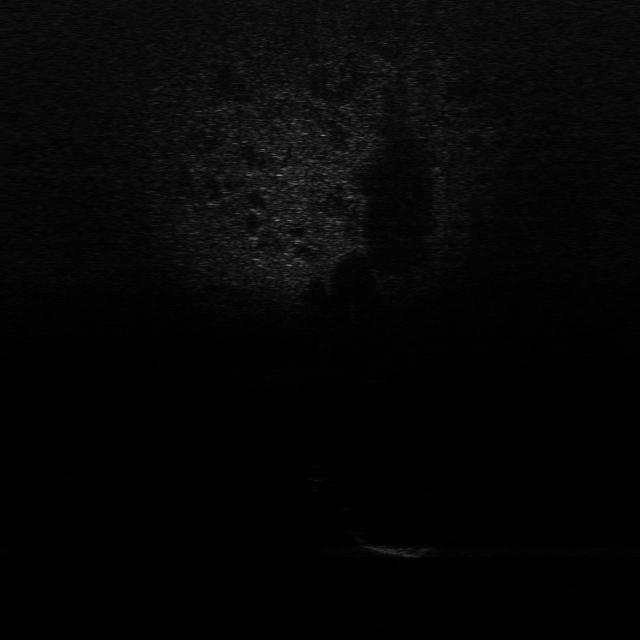ball: (300, 462, 332, 486)
metal bucket: (364, 542, 434, 561)
tyre: (334, 502, 377, 539)
